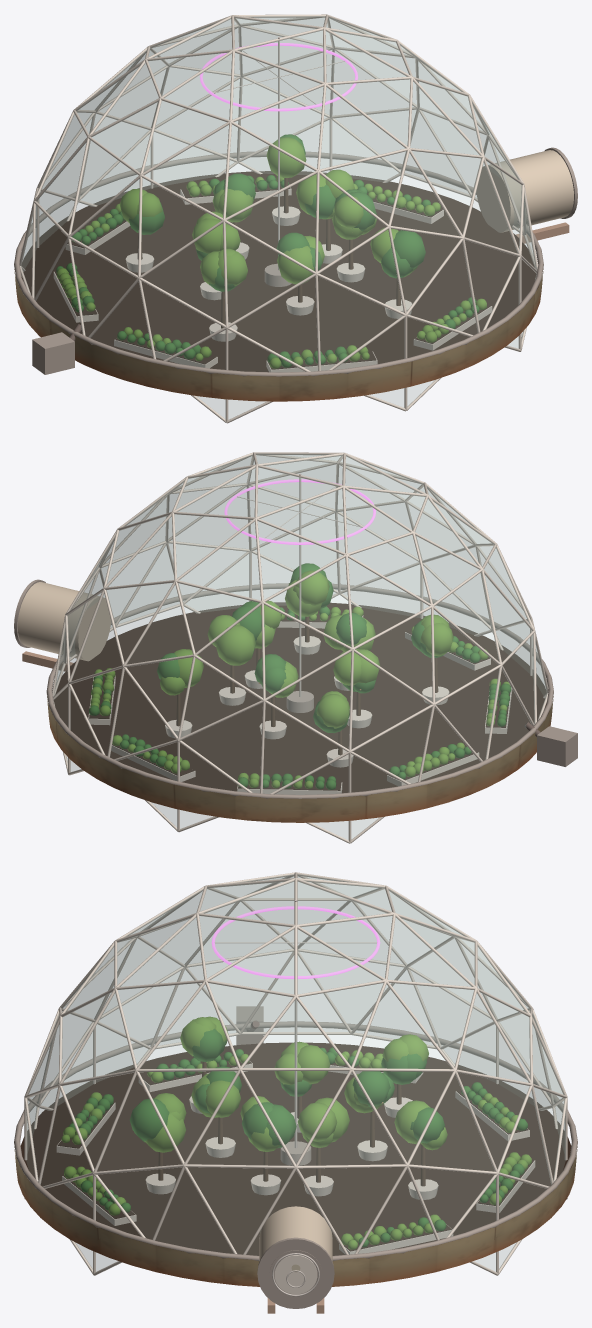
The model's file is A06_greenhouse_dome_18m.glb.
The picture shows the model from 3 angles, top to bottom: view 1: azimuth 30°, elevation 25°; view 2: azimuth 150°, elevation 25°; view 3: azimuth 270°, elevation 25°; orthographic projection. The views are drawn at different scales.
Parts seen in each view (by area): view 1: dome_glazing, dome_floor, ring_wall, crown (×13), ring_beam, airlock_tunnel, bed (×3), climate_unit, grow_light_ring; view 2: dome_glazing, dome_floor, ring_wall, crown (×10), ring_beam, airlock_tunnel, climate_unit, bed (×2), grow_light_ring, centre_mast, irrigation_hub; view 3: dome_glazing, dome_floor, ring_wall, crown (×15), ring_beam, tunnel_flange, airlock_tunnel, grow_light_ring, door, climate_unit, bed, centre_mast (+2 smaller).
Part boxes in pixels (left/top/right/bottom): dome_glazing: left=20, top=16, right=536, bottom=419; dome_floor: left=19, top=171, right=538, bottom=372; ring_wall: left=14, top=268, right=543, bottom=401; crown (×13): left=119, top=137, right=425, bottom=286; ring_beam: left=14, top=151, right=543, bottom=376; airlock_tunnel: left=476, top=150, right=573, bottom=232; bed (×3): left=114, top=306, right=492, bottom=372; climate_unit: left=32, top=332, right=74, bottom=374; grow_light_ring: left=200, top=43, right=357, bottom=111; dome_glazing: left=53, top=454, right=547, bottom=839; dome_floor: left=51, top=602, right=549, bottom=793; ring_wall: left=47, top=693, right=553, bottom=822; crown (×10): left=174, top=570, right=453, bottom=728; ring_beam: left=46, top=583, right=553, bottom=798; airlock_tunnel: left=17, top=582, right=111, bottom=661; climate_unit: left=537, top=726, right=577, bottom=766; bed (×2): left=111, top=745, right=479, bottom=786; grow_light_ring: left=224, top=479, right=375, bottom=544; centre_mast: left=299, top=473, right=301, bottom=696; irrigation_hub: left=286, top=691, right=313, bottom=712; dome_glazing: left=26, top=874, right=565, bottom=1271; dome_floor: left=19, top=1042, right=572, bottom=1255; ring_wall: left=14, top=1146, right=577, bottom=1286; crown (×15): left=129, top=1019, right=444, bottom=1152; ring_beam: left=14, top=1021, right=577, bottom=1260; tunnel_flange: left=257, top=1237, right=334, bottom=1308; airlock_tunnel: left=259, top=1206, right=332, bottom=1261; grow_light_ring: left=211, top=906, right=380, bottom=978; door: left=274, top=1255, right=317, bottom=1294; climate_unit: left=236, top=1006, right=263, bottom=1045; bed: left=339, top=1224, right=453, bottom=1254; centre_mast: left=294, top=900, right=297, bottom=1148.
Size of the model in its own units: 21.86 by 10.76 by 18.4.
15 materials, 1 textured.
